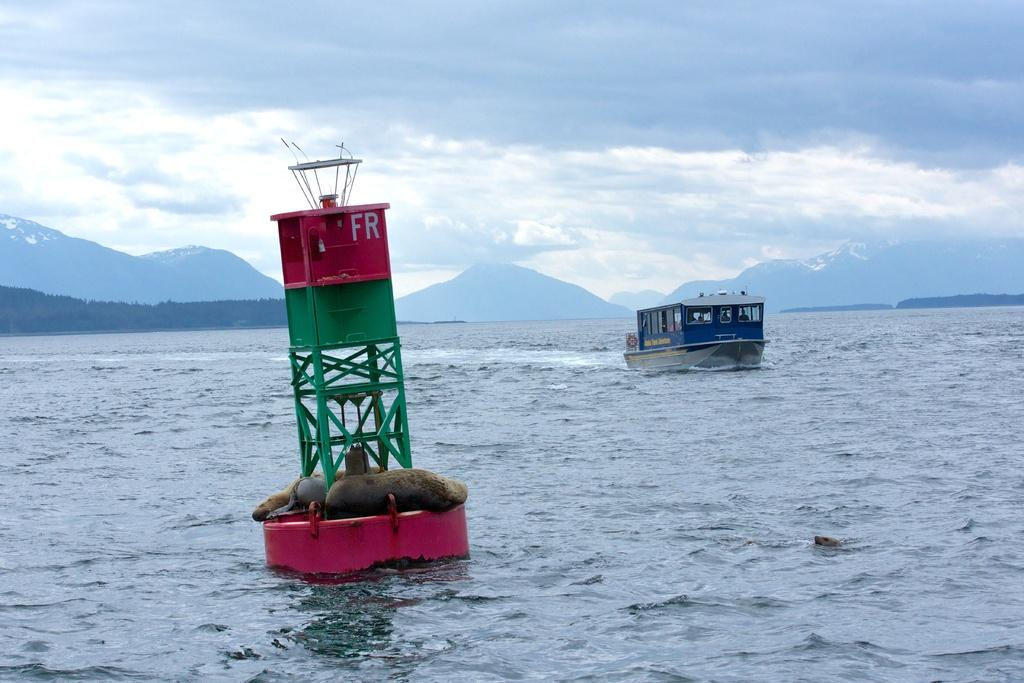PassengerShip: (613, 270, 783, 374)
